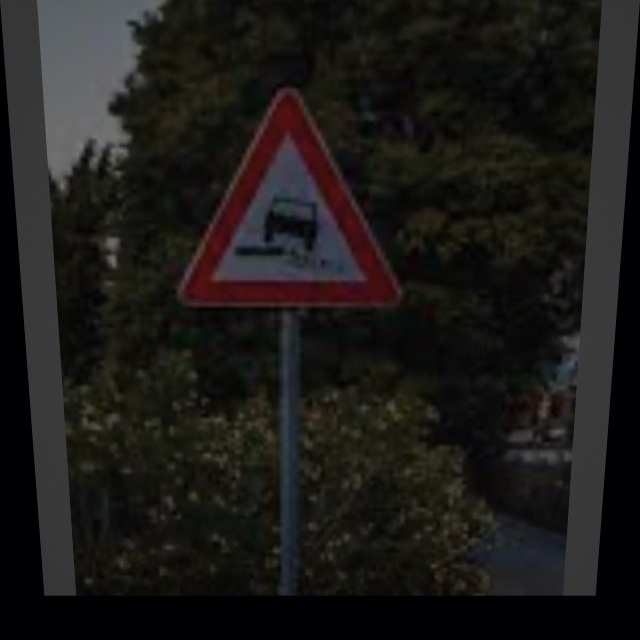Loose_Gravel: (173, 82, 407, 303)
